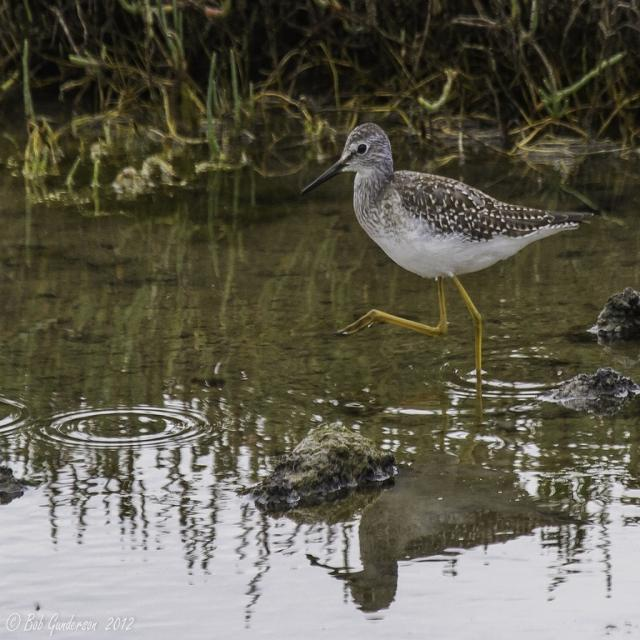bird: (303, 113, 582, 396)
